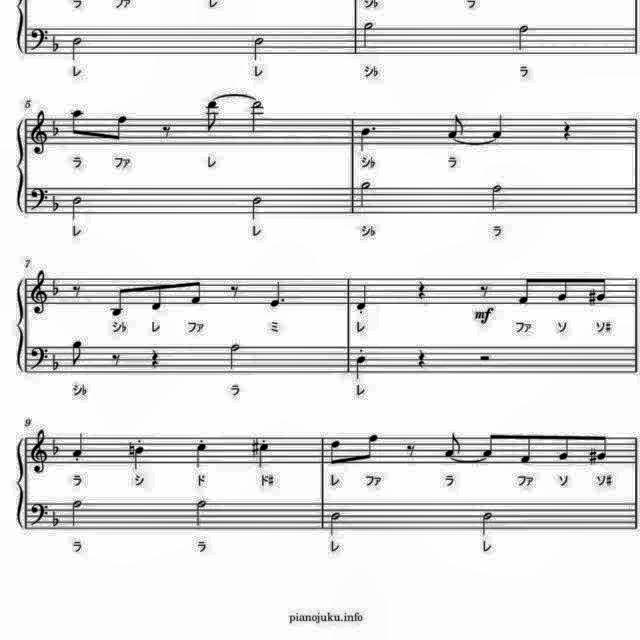Bass-clef: (27, 343, 51, 373), (26, 25, 50, 55), (28, 185, 50, 215), (26, 498, 48, 526)
Bemol: (49, 116, 63, 140), (51, 434, 65, 458), (50, 31, 64, 53), (51, 276, 65, 298), (50, 352, 64, 372), (51, 194, 64, 214), (51, 508, 64, 528)
Diez: (126, 440, 138, 464)
Eighth-note: (109, 282, 133, 320), (107, 112, 131, 146), (66, 104, 88, 140), (513, 272, 535, 308), (358, 430, 380, 466), (202, 96, 222, 134), (442, 111, 466, 142), (442, 431, 466, 461), (148, 278, 168, 314), (516, 430, 536, 466), (326, 436, 346, 468), (554, 430, 574, 462), (68, 338, 88, 370), (188, 276, 208, 308), (480, 428, 500, 459), (554, 274, 572, 306), (592, 430, 610, 462), (592, 274, 608, 306)
Eighth-rest: (475, 280, 497, 300), (68, 280, 84, 302), (160, 123, 177, 143), (404, 440, 421, 460), (227, 280, 243, 300), (108, 350, 124, 370)
Half-note: (246, 97, 268, 135), (487, 181, 507, 215), (512, 19, 532, 53), (356, 179, 376, 213), (358, 18, 378, 50), (190, 498, 210, 530), (250, 34, 270, 66), (325, 509, 345, 539), (478, 509, 498, 539), (225, 342, 243, 374), (247, 193, 266, 223), (68, 33, 86, 63), (68, 193, 86, 223), (68, 498, 84, 530)
Half-rest: (474, 350, 494, 366)
Quarter-dot: (266, 278, 290, 310), (356, 124, 379, 156)
Quarter-note: (352, 279, 372, 313), (190, 438, 210, 469), (256, 440, 276, 470), (69, 431, 87, 463), (130, 444, 150, 472), (354, 351, 371, 381), (489, 114, 507, 142)
Quarter-rest: (145, 344, 163, 370), (414, 344, 431, 370), (414, 277, 430, 303), (560, 120, 576, 144)
Treble-clef: (28, 428, 52, 478), (28, 267, 52, 317), (28, 107, 52, 157)
